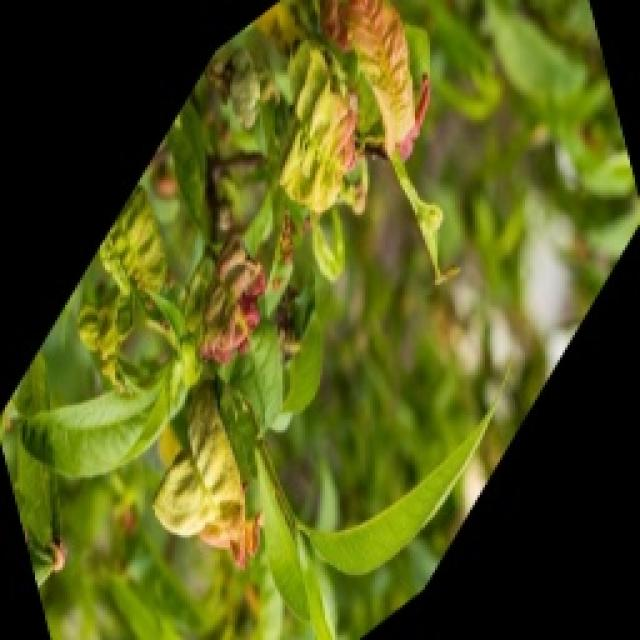peach_leaf_curl: (124, 149, 289, 393)
